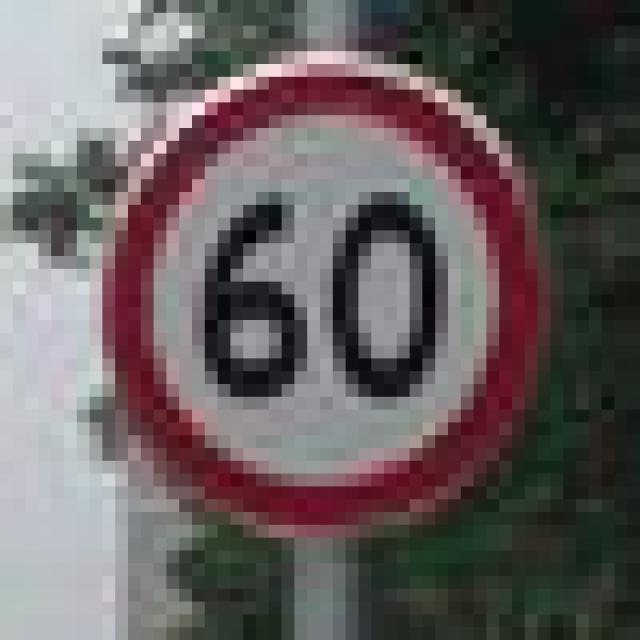speed_limit_40: (90, 38, 524, 525)
